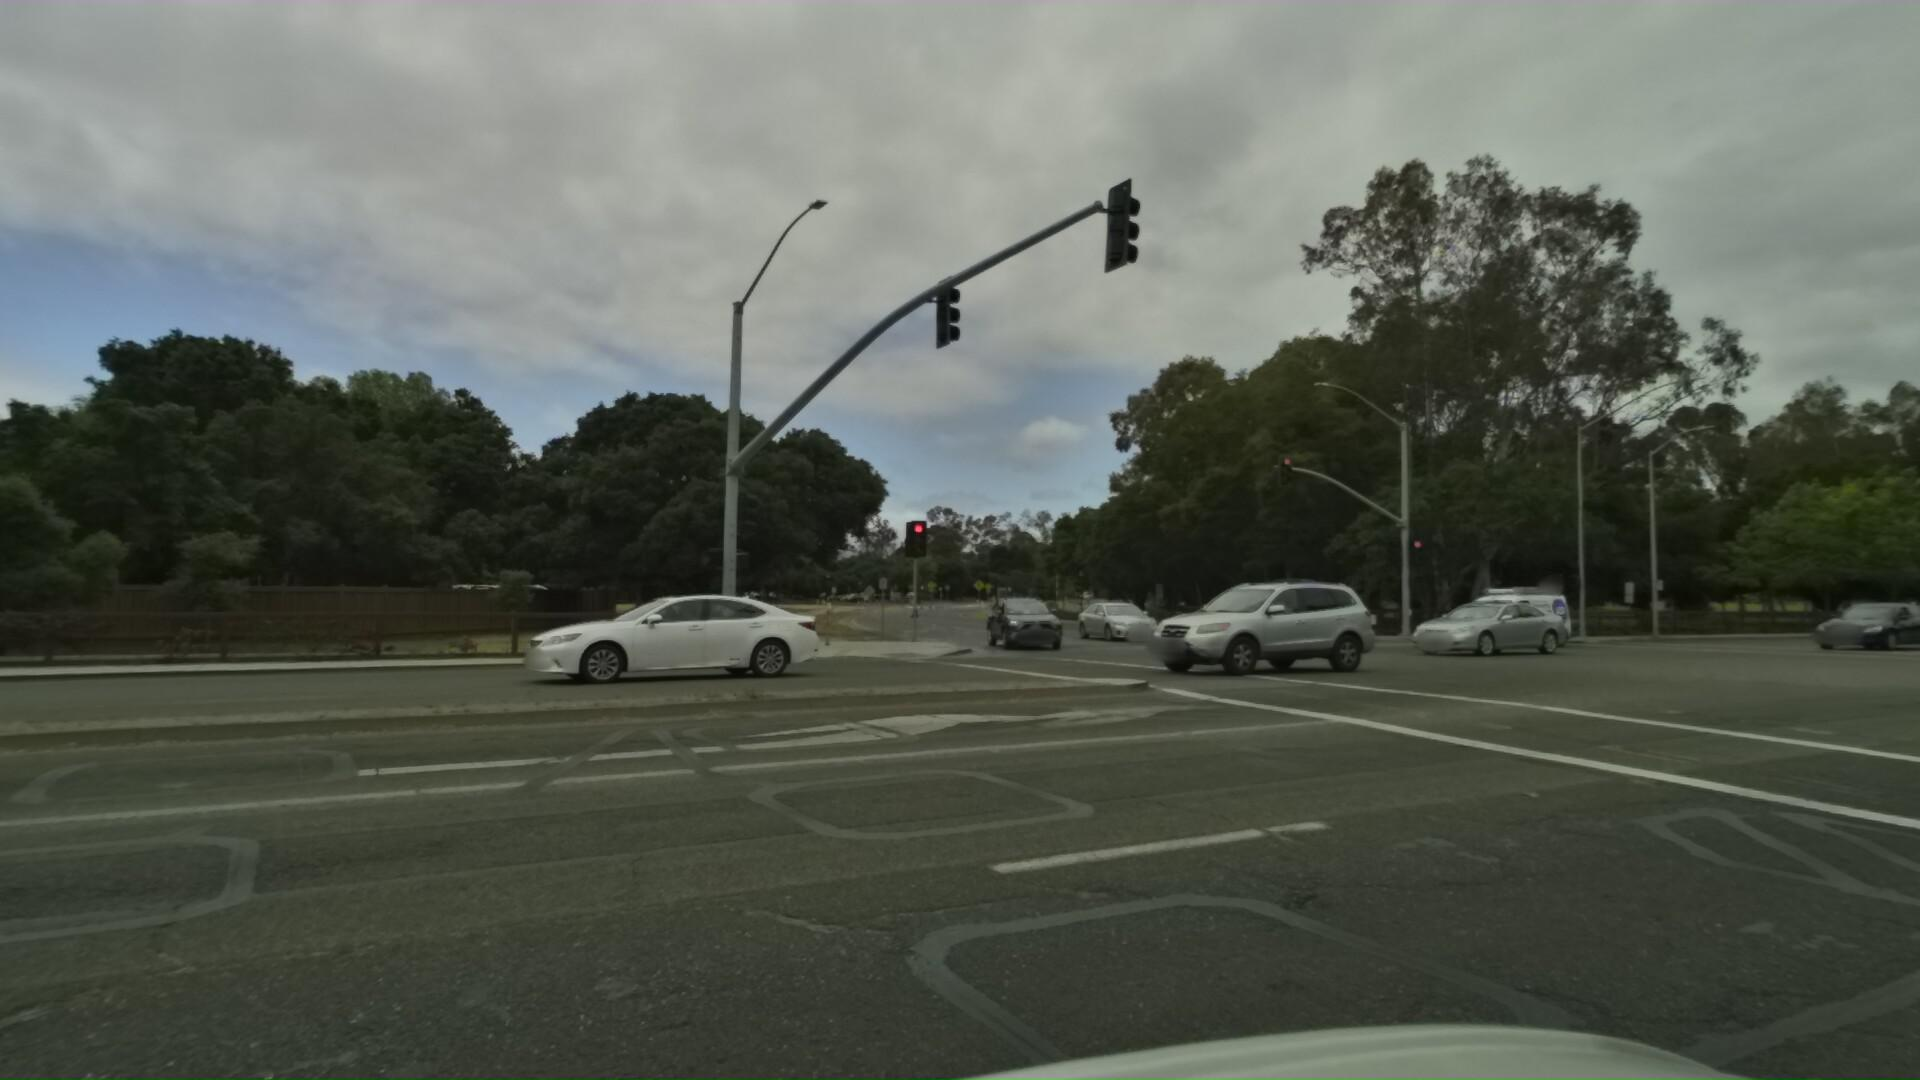car: (442, 585, 765, 688), (1077, 567, 1340, 673), (1366, 593, 1538, 654), (1398, 578, 1545, 641), (1771, 595, 1913, 653), (957, 595, 1054, 647), (1056, 593, 1151, 637), (1898, 585, 1920, 636)
